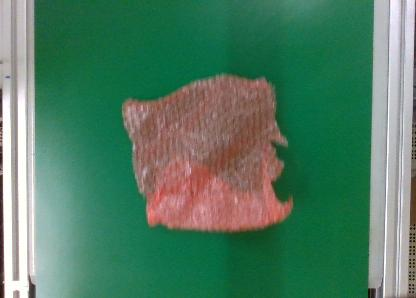Others: (99, 74, 295, 235)
